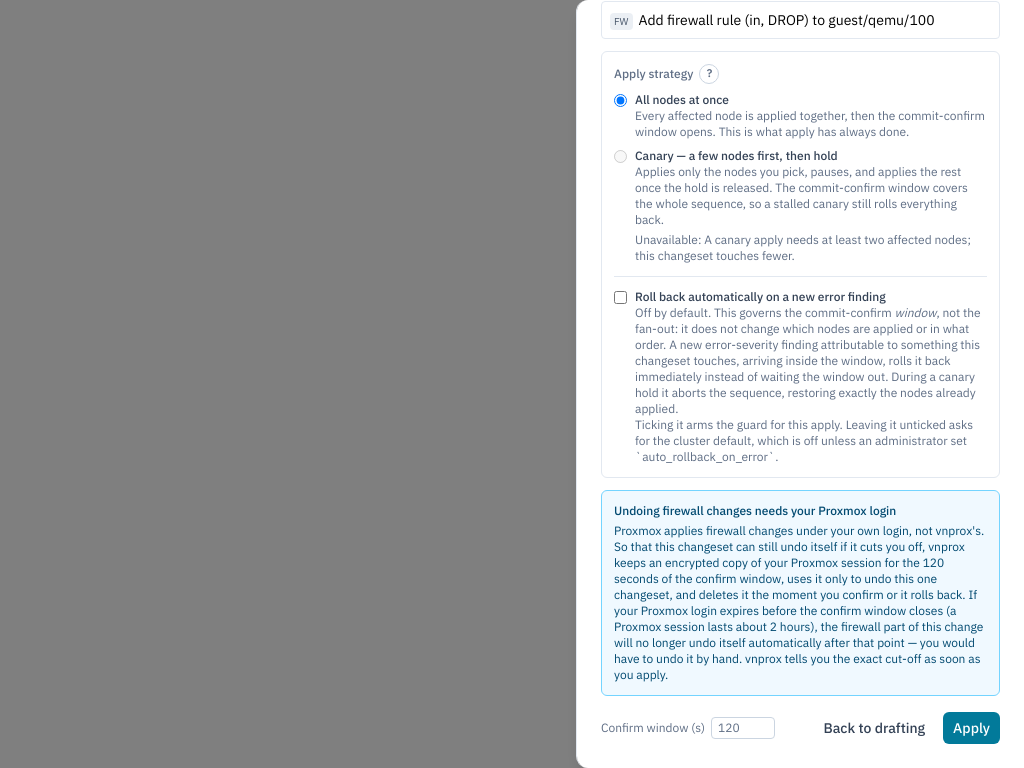
ReviewApplyScreen — unattended-revert coverage notice (T-1805) › restates the coverage when the operator changes the confirm window
(page scrolled)
Expected: the element with test id "revert-coverage-notice" is shown, [601,490,1000,696]
Replace the text in the number field with "300" at {"x": 743, "y": 728}, box [711,717,775,739]
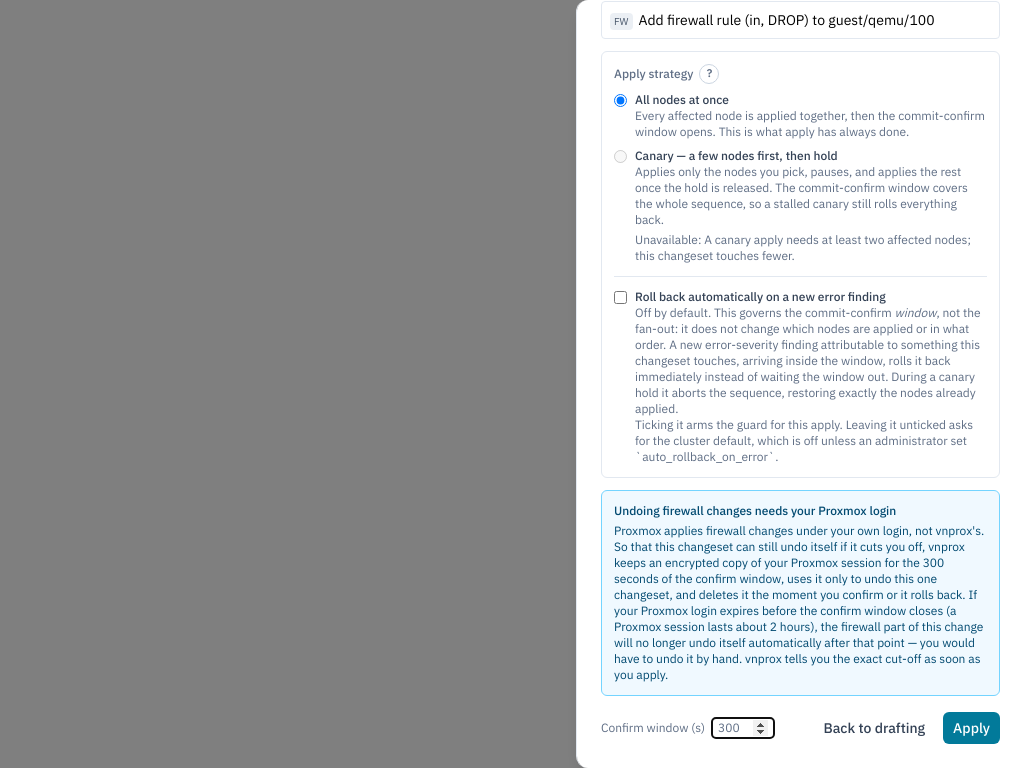
Result: the element with test id "revert-coverage-notice" shows "300 seconds" at [614,523,984,682]
